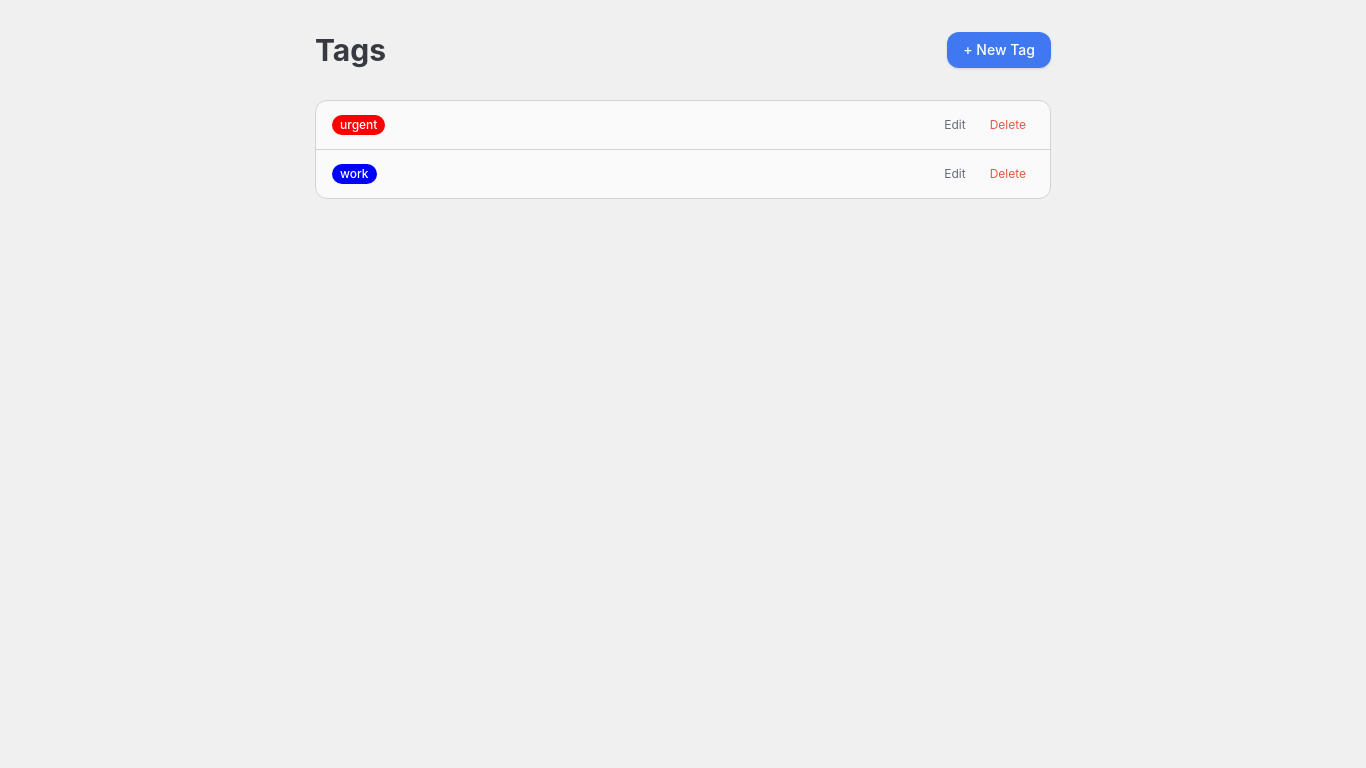
TagsPage › create tag › opens the create modal when New Tag is clicked
Expected: the text "urgent" is shown, x1=332 y1=115 x2=385 y2=135
Click the button "+ New Tag" at (999, 50), box x1=947 y1=32 x2=1051 y2=68
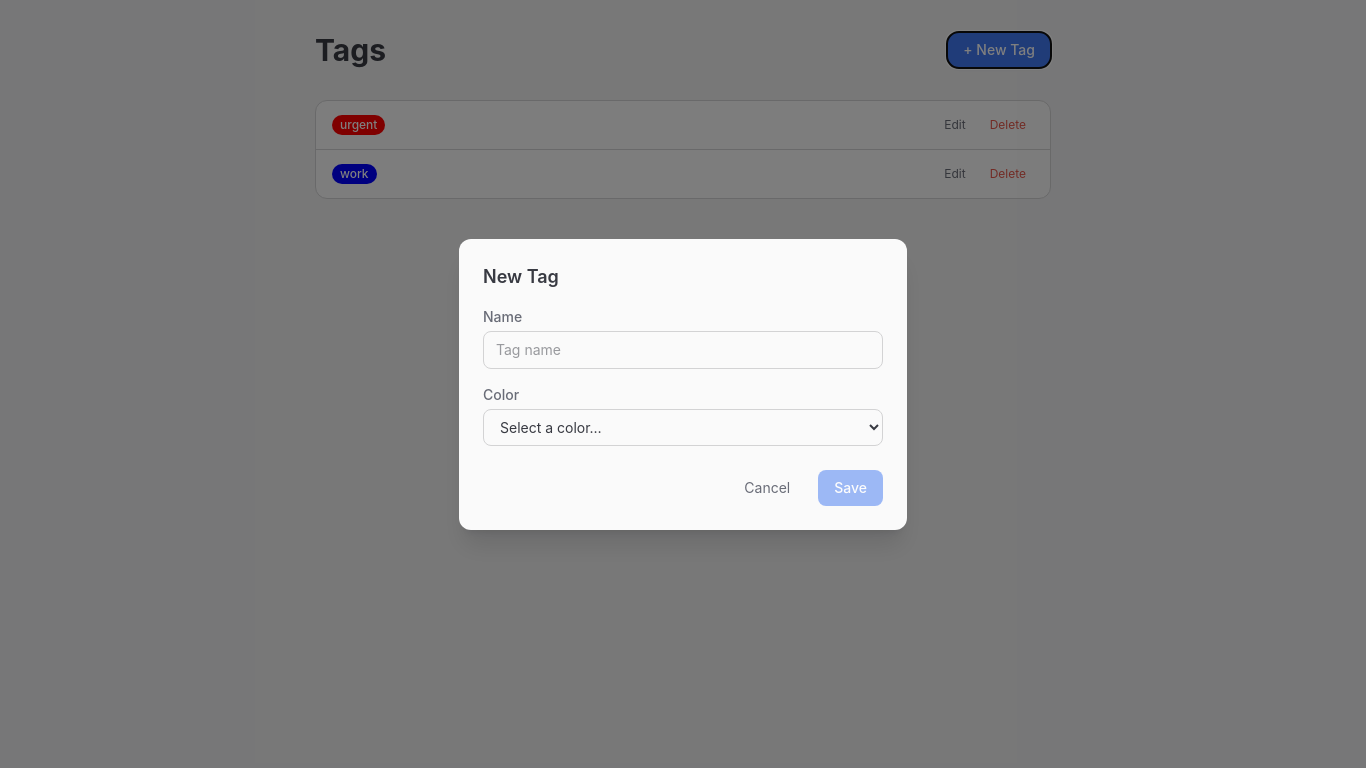
Expected: the heading "New Tag" is shown, x1=483 y1=266 x2=559 y2=286
